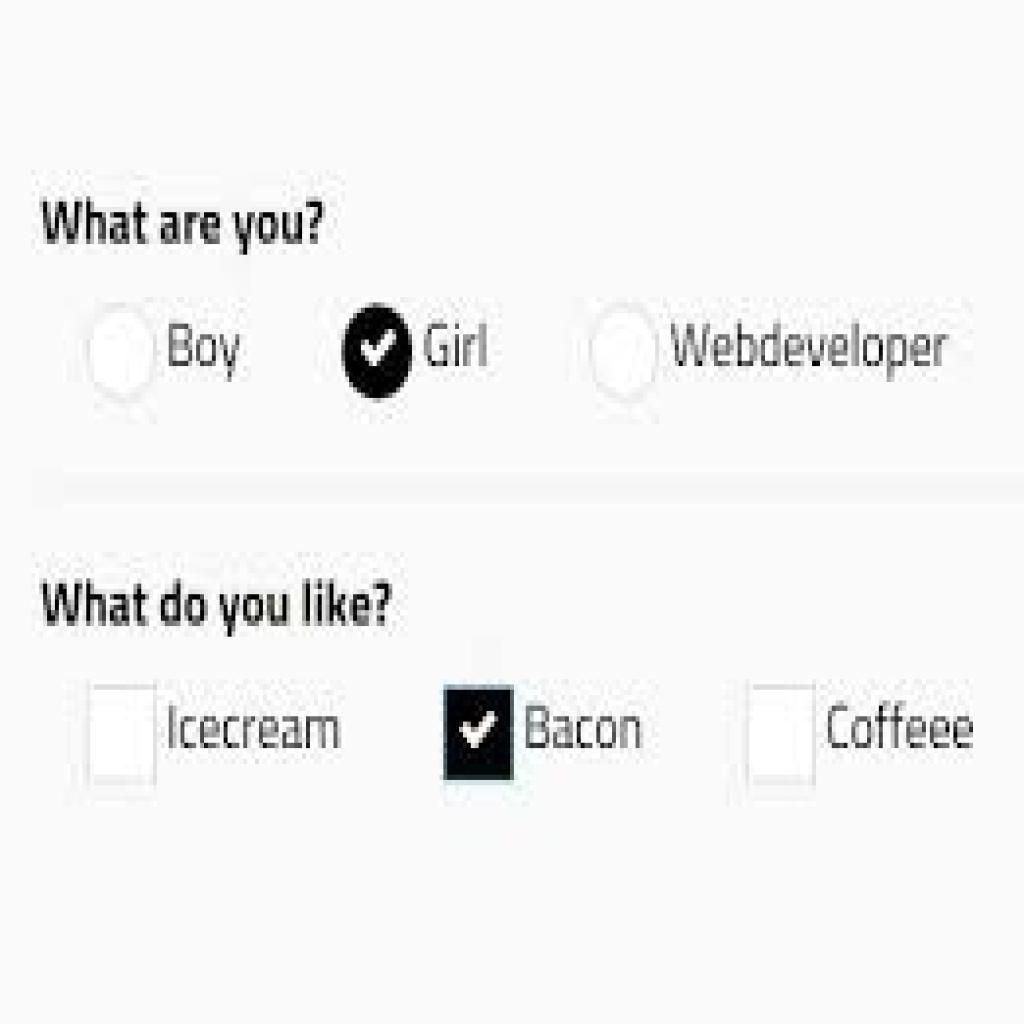checkbox: (84, 683, 161, 792), (438, 684, 520, 784), (747, 679, 816, 789)
radio: (582, 295, 668, 410), (339, 297, 419, 410), (79, 297, 161, 405)
